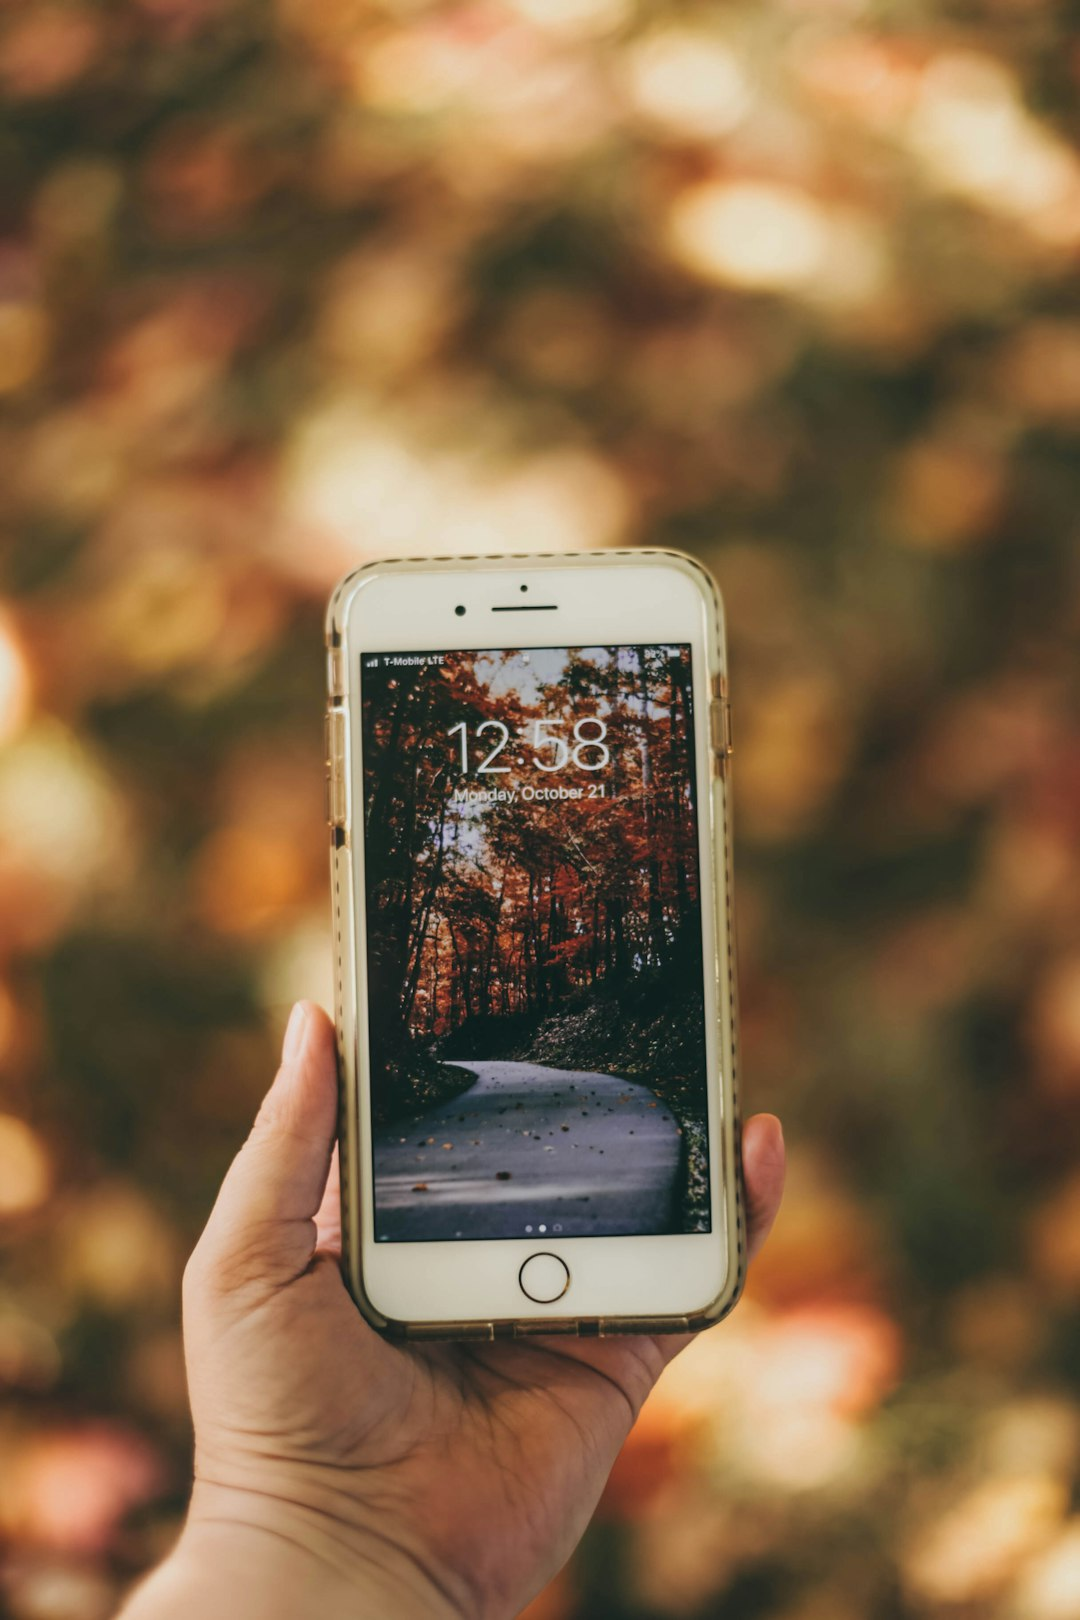phone: (325, 547, 746, 1330)
